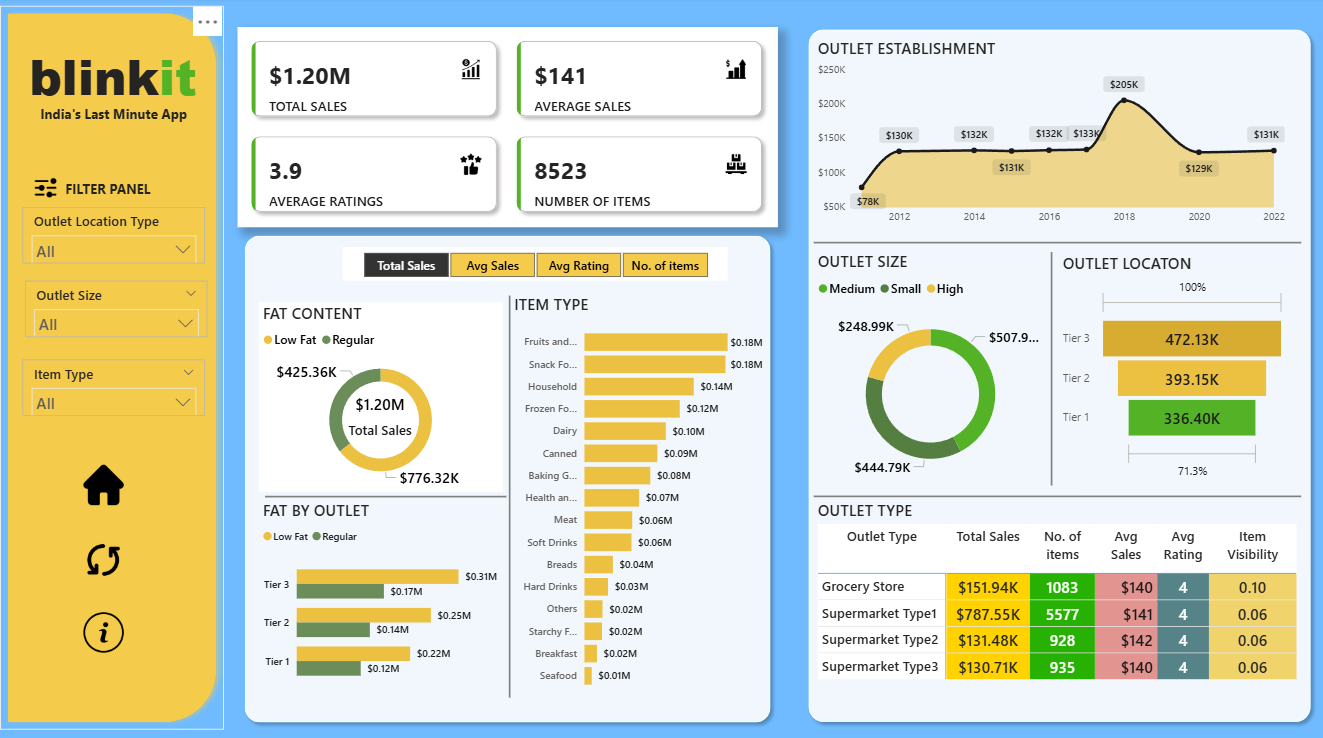

The page's visual inventory and layout, read from the dashboard file:
{"tool":"powerbi","page":{"name":"Dashboard","canvas":[1600,900],"ordinal":0},"visuals":[{"type":"shape","box":[0,10,270,873.3],"z":0},{"type":"textbox","box":[30,48.6,232.9,95.7],"z":1000},{"type":"textbox","box":[44.3,125.7,205.7,37.1],"z":2000},{"type":"cardVisual","fields":{"Data":["BlinkIT Grocery Data.Total Sales","BlinkIT Grocery Data.Avg Sales","BlinkIT Grocery Data.Avg Rating","BlinkIT Grocery Data.Number of items"]},"box":[286.7,36.7,651.7,241.7],"z":3000},{"type":"shape","box":[286.7,278.3,651.7,605],"z":4000},{"type":"donutChart","title":"FAT CONTENT","fields":{"Y":["BlinkIT Grocery Data.Total Sales"],"Category":["BlinkIT Grocery Data.Item Fat Content"]},"box":[311.7,367.3,294.3,228.6],"z":5000},{"type":"slicer","fields":{"Values":["Metrics.Metrics"]},"box":[413.2,301.6,464.5,40.7],"z":6000},{"type":"card","fields":{"Values":["BlinkIT Grocery Data.Total Sales"]},"box":[406.7,456.7,103.3,95],"z":7000},{"type":"clusteredBarChart","title":"FAT BY OUTLET","fields":{"Y":["BlinkIT Grocery Data.Total Sales"],"Category":["BlinkIT Grocery Data.Outlet Location Type"],"Series":["BlinkIT Grocery Data.Item Fat Content"]},"box":[311.7,606.7,295,238.3],"z":8000},{"type":"shape","box":[320,580,291.4,44.3],"z":9000},{"type":"shape","box":[595,360,38.3,485],"z":10000},{"type":"barChart","title":"ITEM TYPE","fields":{"Y":["BlinkIT Grocery Data.Total Sales"],"Category":["BlinkIT Grocery Data.Item Type"]},"box":[615,356.7,310,488.3],"z":11000},{"type":"shape","box":[966.7,30,623.3,853.3],"z":12000},{"type":"lineChart","title":"OUTLET ESTABLISHMENT","fields":{"Category":["BlinkIT Grocery Data.Outlet Establishment Year"],"Y":["BlinkIT Grocery Data.Total Sales"]},"box":[981.7,48.3,573.3,235],"z":13000},{"type":"shape","box":[981.7,279,588.1,34.7],"z":14000},{"type":"donutChart","title":"OUTLET SIZE","fields":{"Y":["BlinkIT Grocery Data.Total Sales"],"Category":["BlinkIT Grocery Data.Outlet Size"]},"box":[981.7,306.1,282,289.5],"z":15000},{"type":"shape","box":[1248.3,308.3,40,281.7],"z":16000},{"type":"funnel","title":"OUTLET LOCATON","fields":{"Y":["Sum(BlinkIT Grocery Data.Sales)"],"Category":["BlinkIT Grocery Data.Outlet Location Type"]},"box":[1276.7,308.3,278.3,280],"z":17000},{"type":"shape","box":[981.7,585.1,588.1,34.7],"z":18000},{"type":"pivotTable","title":"OUTLET TYPE","fields":{"Rows":["BlinkIT Grocery Data.Outlet Type"],"Values":["BlinkIT Grocery Data.Total Sales","BlinkIT Grocery Data.No. of items","BlinkIT Grocery Data.Avg Sales","BlinkIT Grocery Data.Avg Rating","Avg(BlinkIT Grocery Data.Item Visibility)"]},"box":[981.7,606.7,588.3,238.3],"z":19000},{"type":"slicer","fields":{"Values":["BlinkIT Grocery Data.Outlet Location Type"]},"box":[26.7,253.3,220,68.3],"z":20000},{"type":"slicer","fields":{"Values":["BlinkIT Grocery Data.Outlet Size"]},"box":[30,341.7,220,68.3],"z":21000},{"type":"slicer","fields":{"Values":["BlinkIT Grocery Data.Item Type"]},"box":[26.7,436.7,220,68.3],"z":22000},{"type":"textbox","box":[74.2,215.7,123.7,37.7],"z":23000},{"type":"image","box":[95,559.5,60.3,58.8],"z":24000},{"type":"image","box":[36.5,206.6,37.7,46.7],"z":25000},{"type":"image","box":[95,650,60.3,58.8],"z":26000},{"type":"image","box":[95,737.4,60.3,58.8],"z":28000}]}

Visuals, with their boxes in screenshot pixels (x1, y1, x2, y2):
shape: [21,12,239,717]
textbox: [45,43,233,120]
textbox: [56,105,223,135]
cardVisual - BlinkIT Grocery Data.Total Sales x BlinkIT Grocery Data.Avg Sales: [252,33,779,228]
shape: [252,228,779,717]
"FAT CONTENT" donutChart: [272,300,510,485]
slicer - Metrics.Metrics: [354,247,730,280]
card - BlinkIT Grocery Data.Total Sales: [349,372,433,449]
"FAT BY OUTLET" clusteredBarChart: [272,494,511,686]
shape: [279,472,515,508]
shape: [501,294,532,686]
"ITEM TYPE" barChart: [518,292,768,686]
shape: [802,28,1305,717]
"OUTLET ESTABLISHMENT" lineChart: [814,42,1277,232]
shape: [814,229,1289,257]
"OUTLET SIZE" donutChart: [814,251,1042,485]
shape: [1029,253,1061,480]
"OUTLET LOCATON" funnel: [1052,253,1277,479]
shape: [814,476,1289,504]
"OUTLET TYPE" pivotTable: [814,494,1289,686]
slicer - BlinkIT Grocery Data.Outlet Location Type: [42,208,220,263]
slicer - BlinkIT Grocery Data.Outlet Size: [45,280,223,335]
slicer - BlinkIT Grocery Data.Item Type: [42,356,220,411]
textbox: [81,178,181,208]
image: [97,455,146,503]
image: [50,170,81,208]
image: [97,529,146,576]
image: [97,599,146,647]
